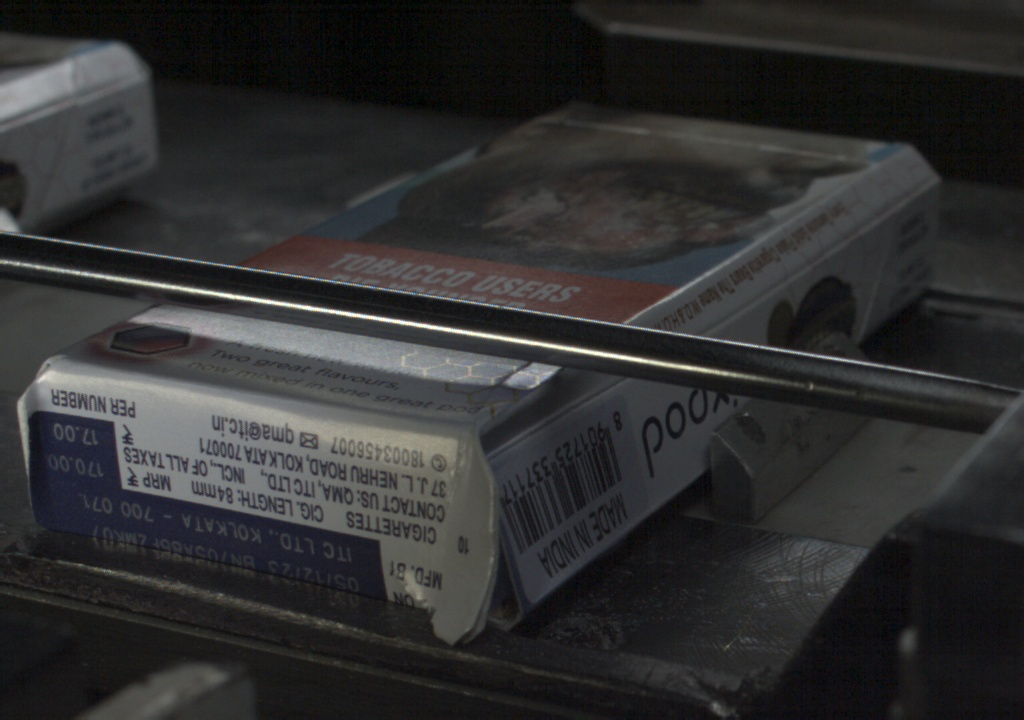g_label: (31, 488, 388, 603)
g_lmiter: (705, 266, 798, 332), (799, 207, 887, 269)
g_miter: (890, 172, 936, 207)
ng_bottom: (407, 428, 521, 639), (13, 384, 33, 530)
price: (28, 414, 118, 483)
